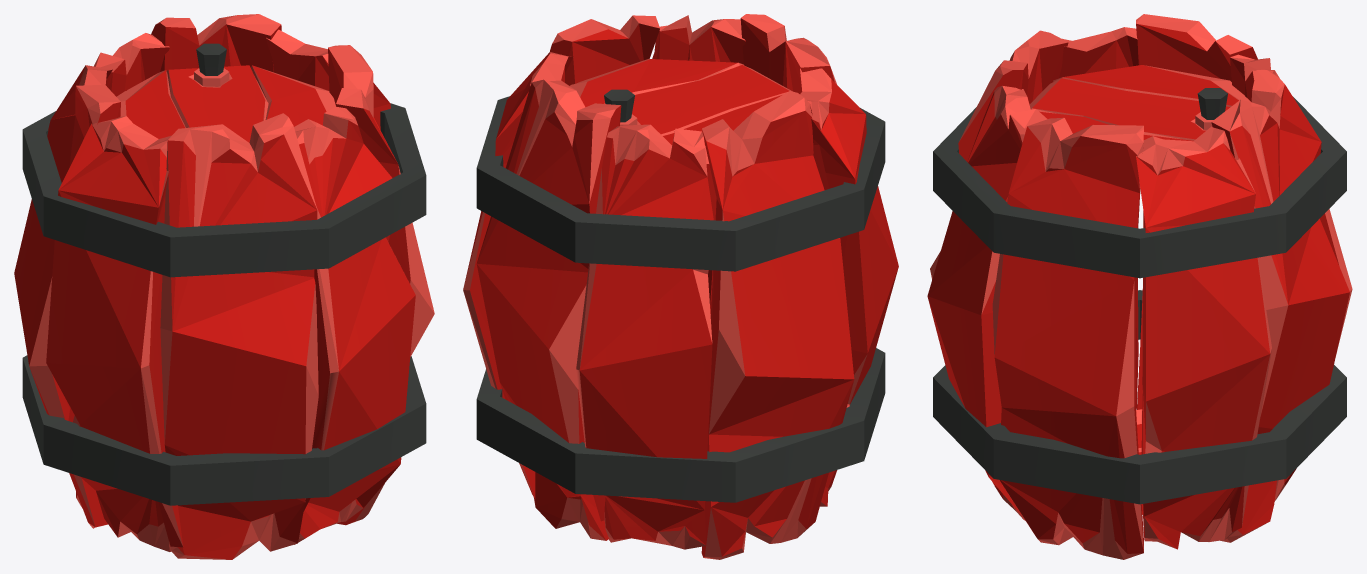
File: TNT.fbx
3 renders of one model, left to right at view 1: azimuth 30°, elevation 25°; view 2: azimuth 150°, elevation 25°; view 3: azimuth 270°, elevation 25°, orthographic. The views are drawn at different scales.
Visible parts, largest first — view 1: Varil.001; view 2: Varil.001; view 3: Varil.001.
Part boxes in pixels (x1,y1,x2,y2): Varil.001: [14, 14, 434, 559]; Varil.001: [463, 14, 898, 559]; Varil.001: [927, 14, 1352, 559].
Bounding box in the file's own units: 43.85 × 49.89 × 44.48.
